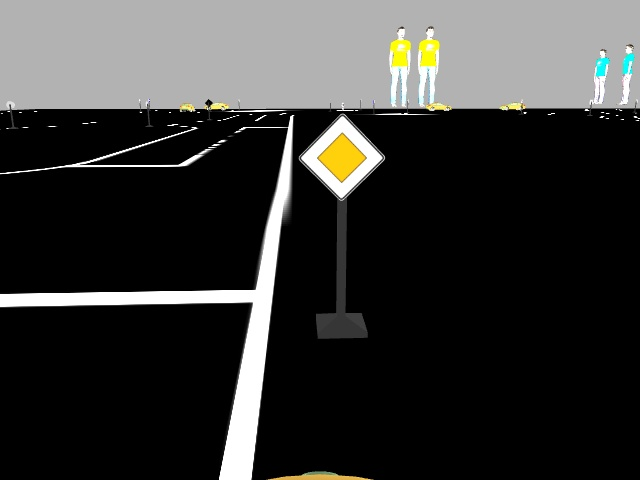Priority: (307, 116, 384, 197)
